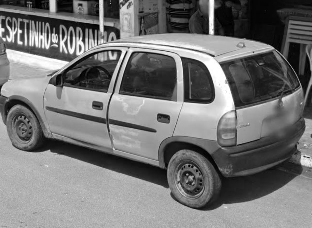car: (1, 33, 306, 206)
